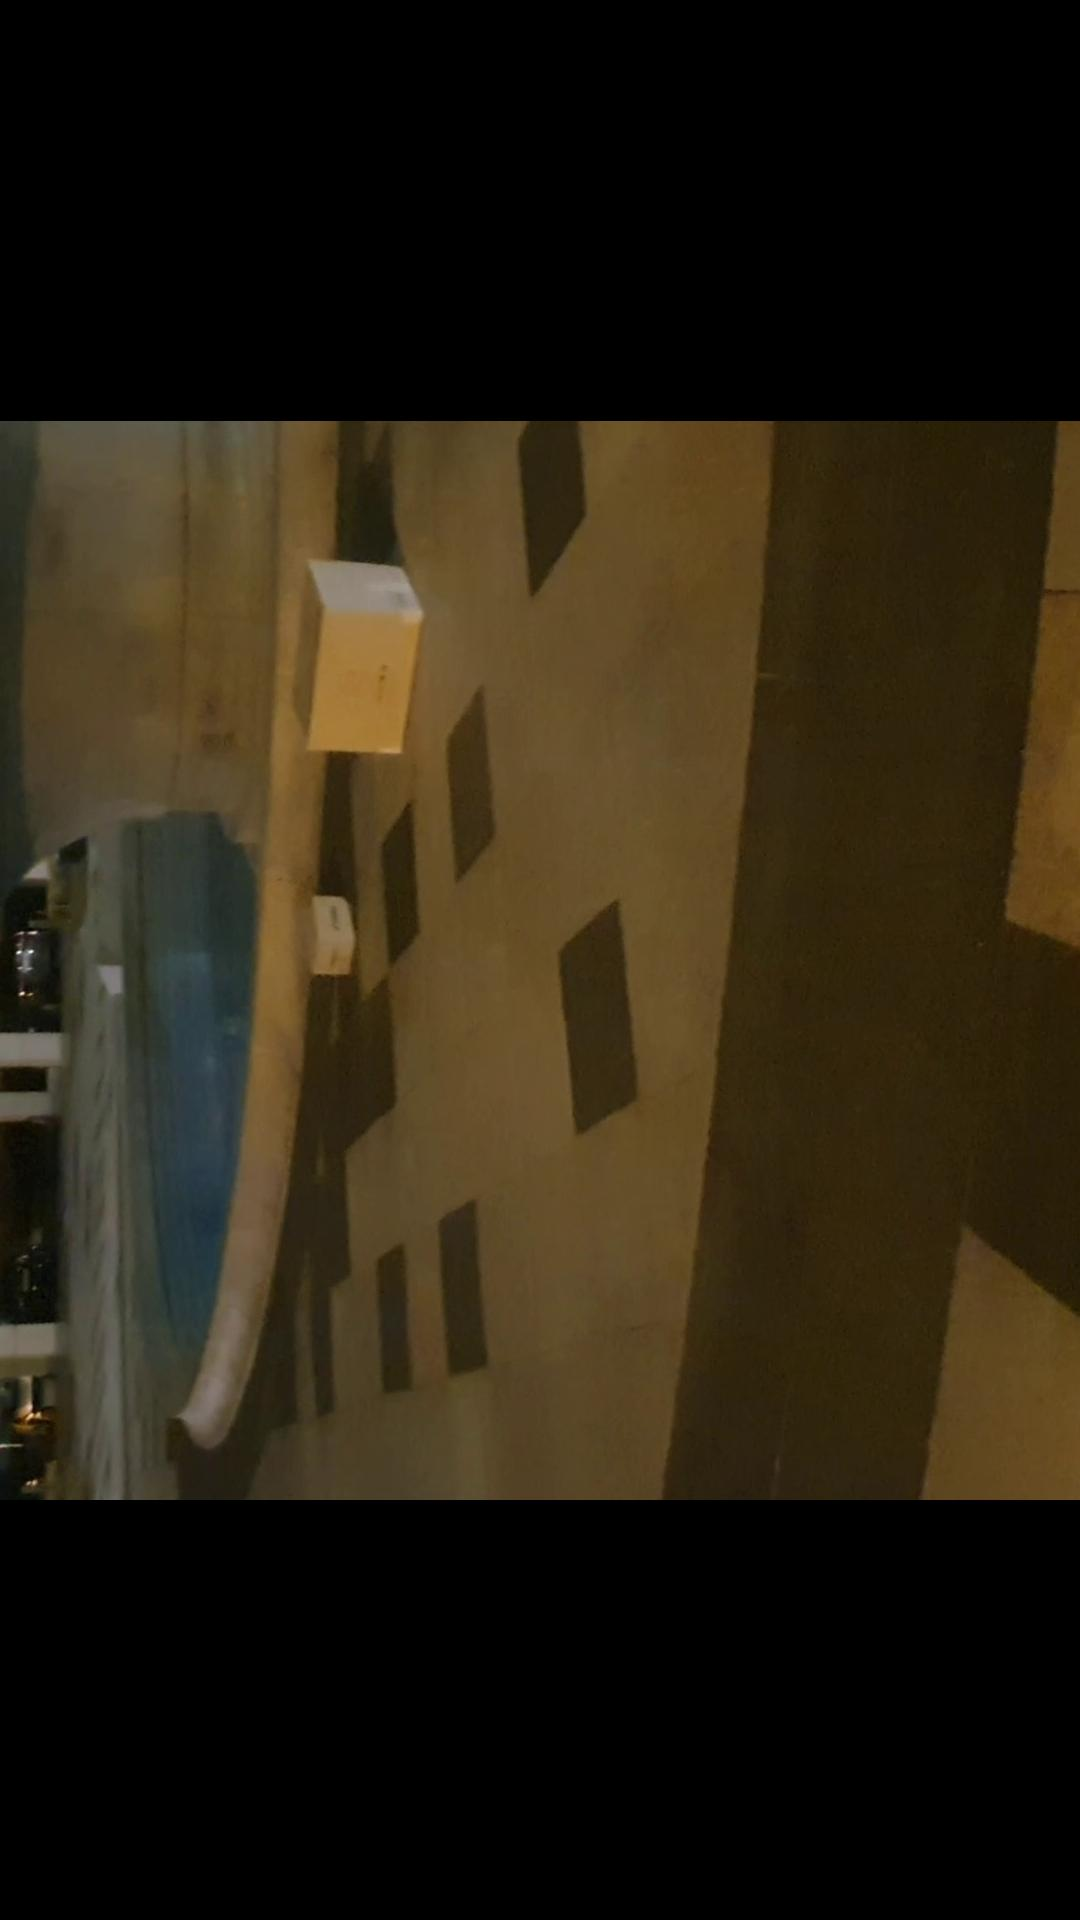Box: (285, 541, 427, 762), (285, 884, 367, 977)
